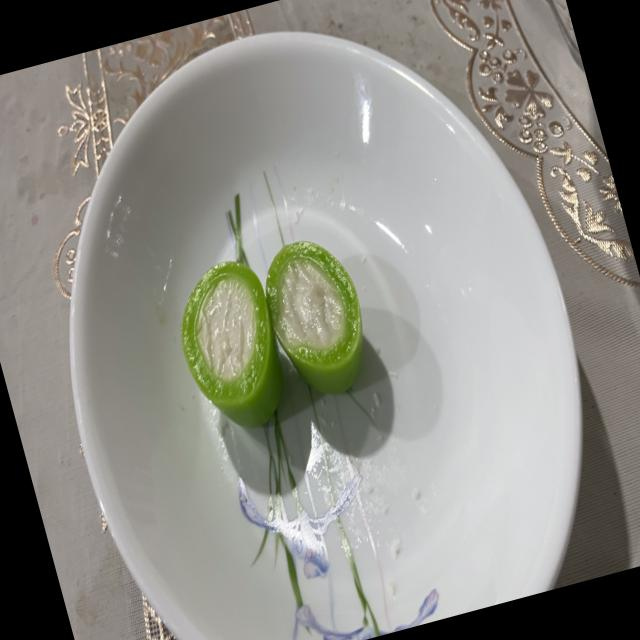nona-manis: (181, 260, 282, 427), (265, 240, 363, 394)
